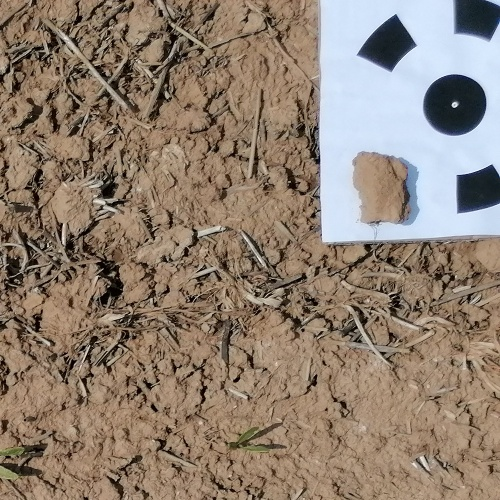beet: (224, 425, 270, 455), (0, 446, 24, 483)
